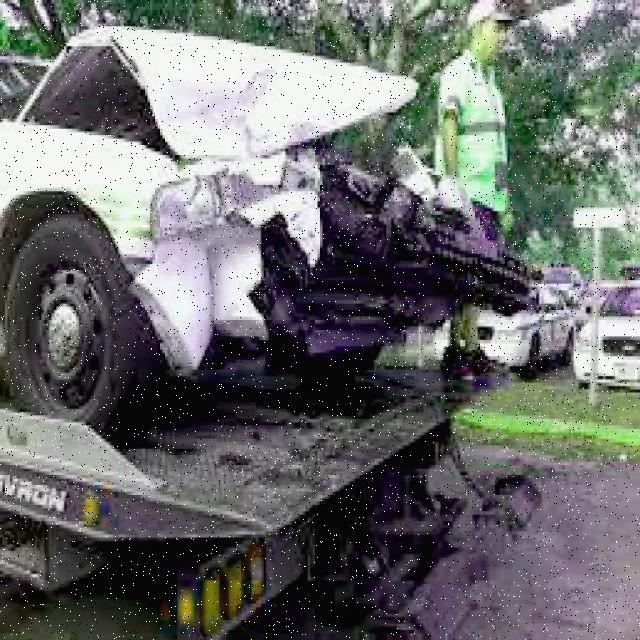car damage: (19, 23, 538, 372)
